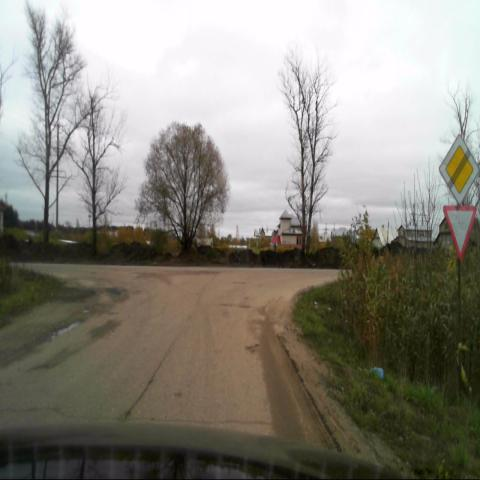2_2: (439, 133, 480, 203)
